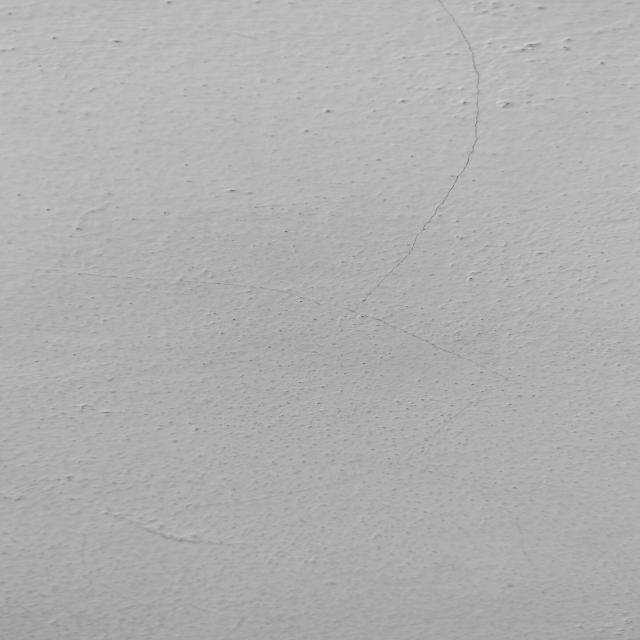Crack: (354, 0, 489, 308)
